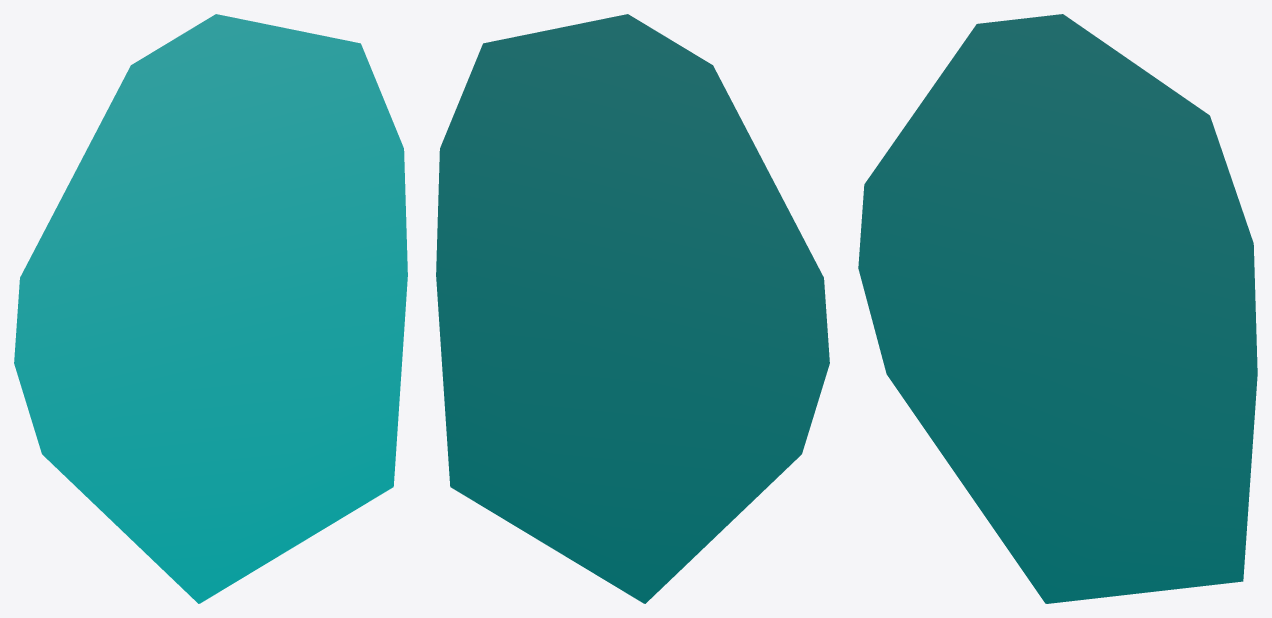
The model's file is Boxwood_wfypfa3ha_Low_wfypfa3ha_VarA_LOD3.fbx.
3 renders of one model, left to right at view 1: azimuth 30°, elevation 25°; view 2: azimuth 150°, elevation 25°; view 3: azimuth 330°, elevation 25°, orthographic.
Visible parts, largest first — view 1: _71bu_VarA_LOD5; view 2: _71bu_VarA_LOD5; view 3: _71bu_VarA_LOD5.
Boxes of the visible parts, <box> form: _71bu_VarA_LOD5: <box>14,14,407,603</box>; _71bu_VarA_LOD5: <box>436,14,829,603</box>; _71bu_VarA_LOD5: <box>858,14,1257,603</box>.
Size of the model in its own units: 48.41 by 68.8 by 0.
